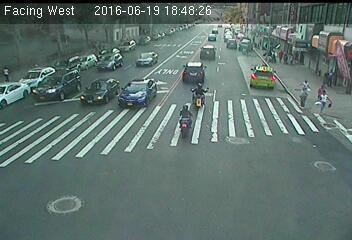neg: (171, 102, 203, 144), (151, 47, 179, 85), (189, 80, 212, 112), (85, 58, 106, 85), (114, 88, 134, 115)
pos: (317, 90, 335, 114), (324, 66, 341, 88)
